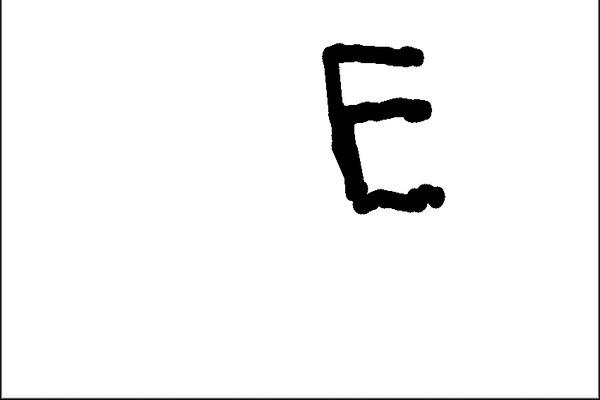E: (316, 35, 453, 216)
